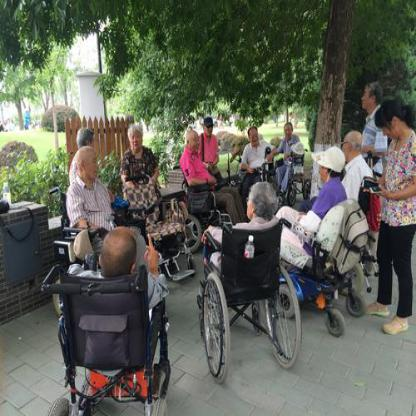wheelchair: (44, 221, 180, 415), (186, 185, 302, 374), (268, 148, 372, 335), (39, 151, 141, 310), (171, 128, 244, 256), (229, 126, 278, 208), (266, 126, 308, 209)
